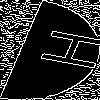H: (25, 25, 100, 72)
